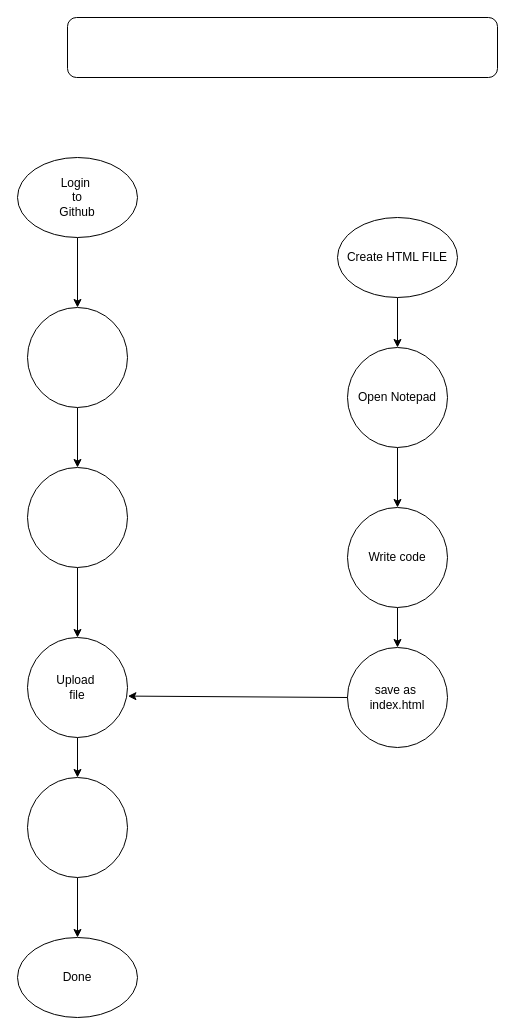
Image size: 515x1035. Some labels were removed from this diagram. The box of each missing label's shape, as (x1, y1, x2, y2) in pixels:
Add file: (26, 466, 128, 568)
Commit changes: (26, 776, 128, 878)
Create repository: (26, 306, 128, 408)
LIFE CYCLE OF WEB APPLICATION: (66, 16, 498, 78)
